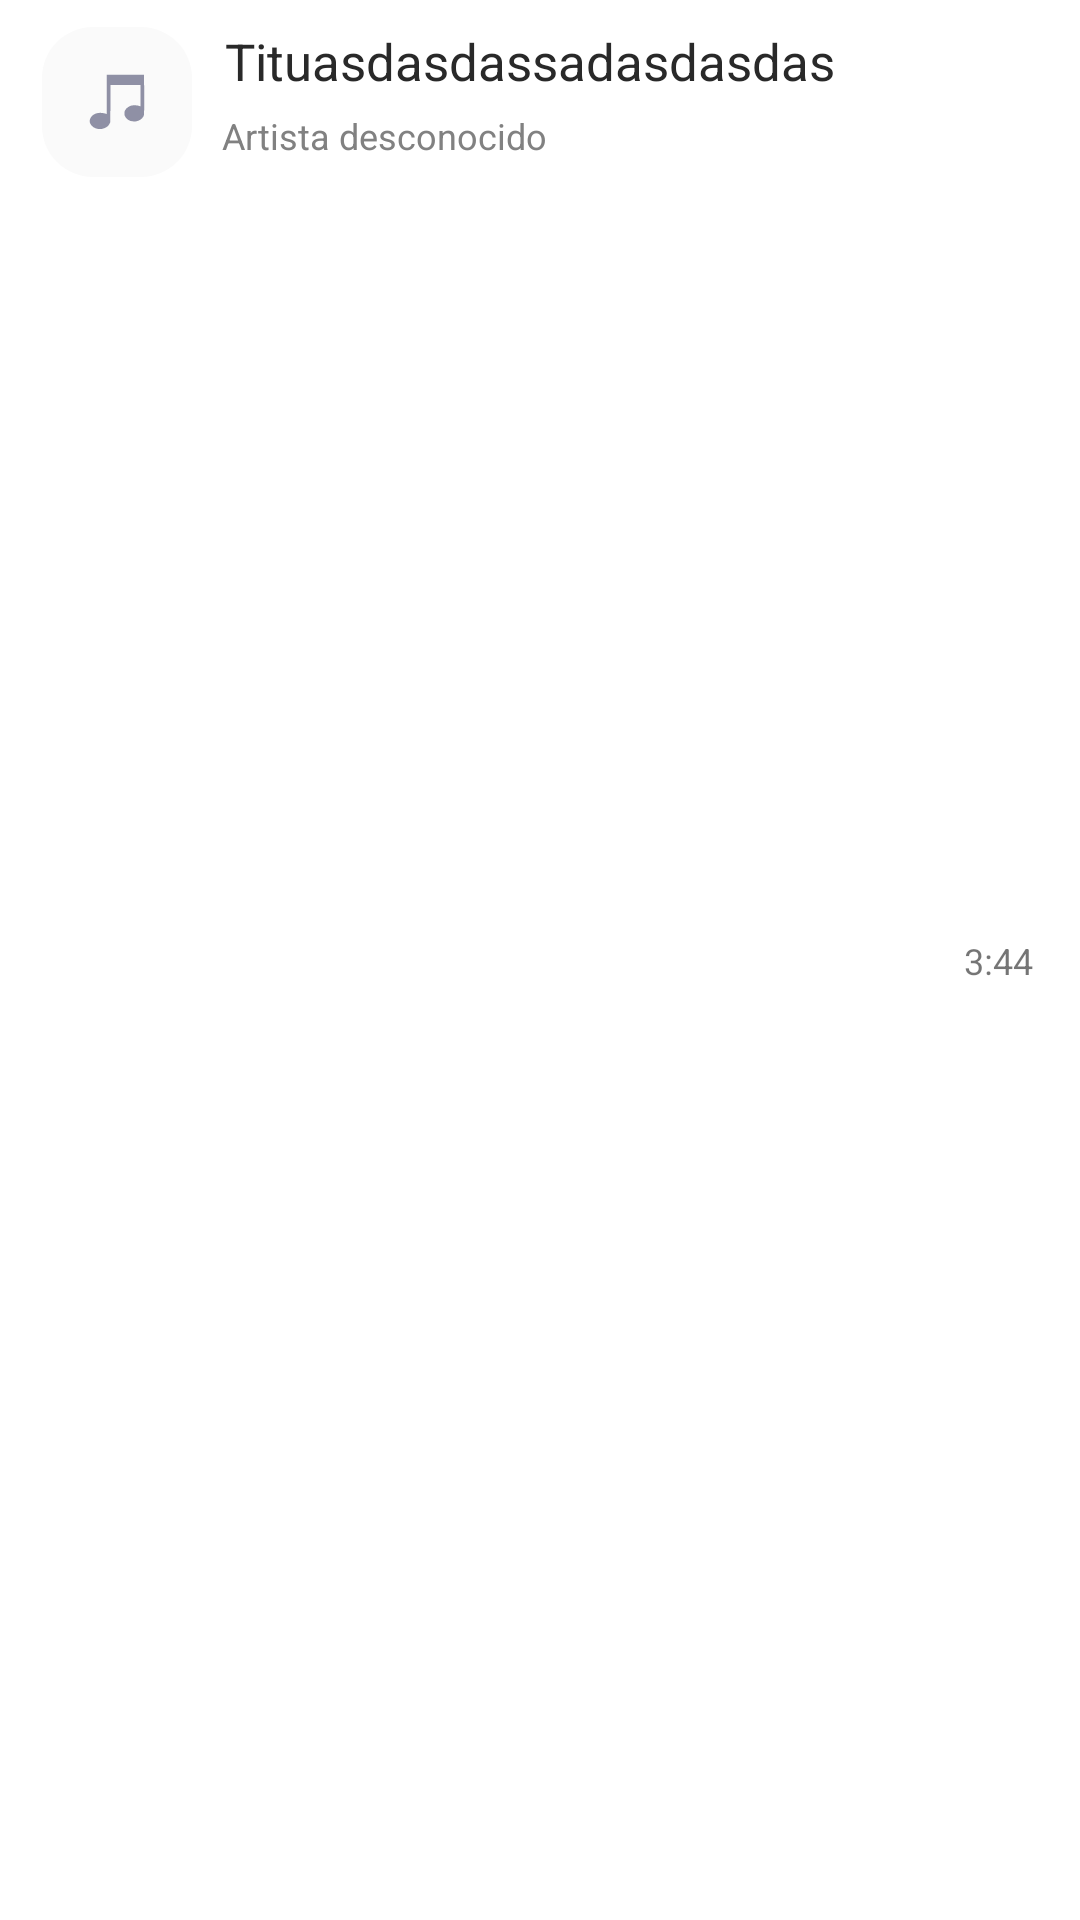

Where icons sit on this 1080 × 1920 app screen, as (x1, y1, x2, y2):
music: (89, 74, 145, 129)
